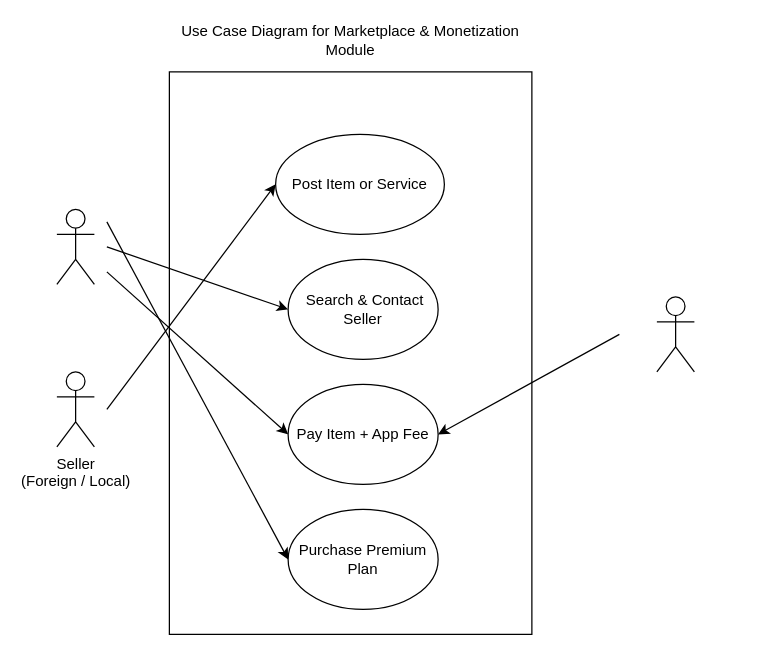
This 778x656 diagram has some shape labels left out. The box of each missing label's shape, as (x1, y1, x2, y2) in pixels:
Buyer (Foreign / Local): (56, 208, 94, 284)
Payment Gateway / App: (656, 296, 694, 372)
